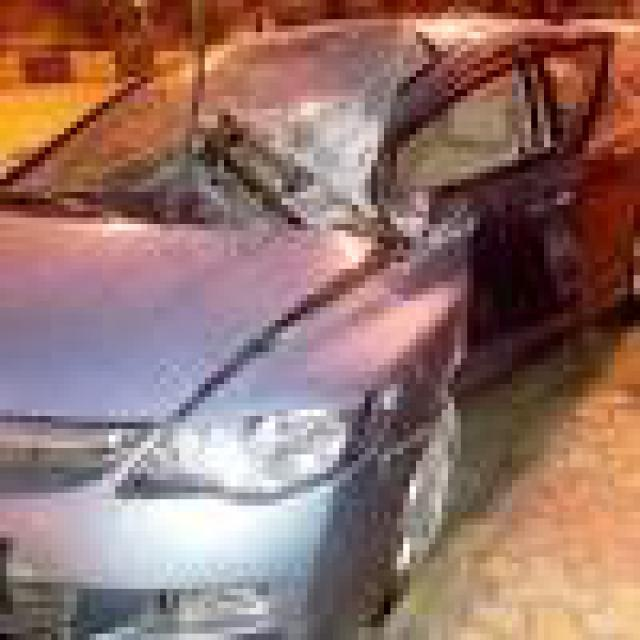Front-Windscreen-Damage: (32, 38, 416, 236)
